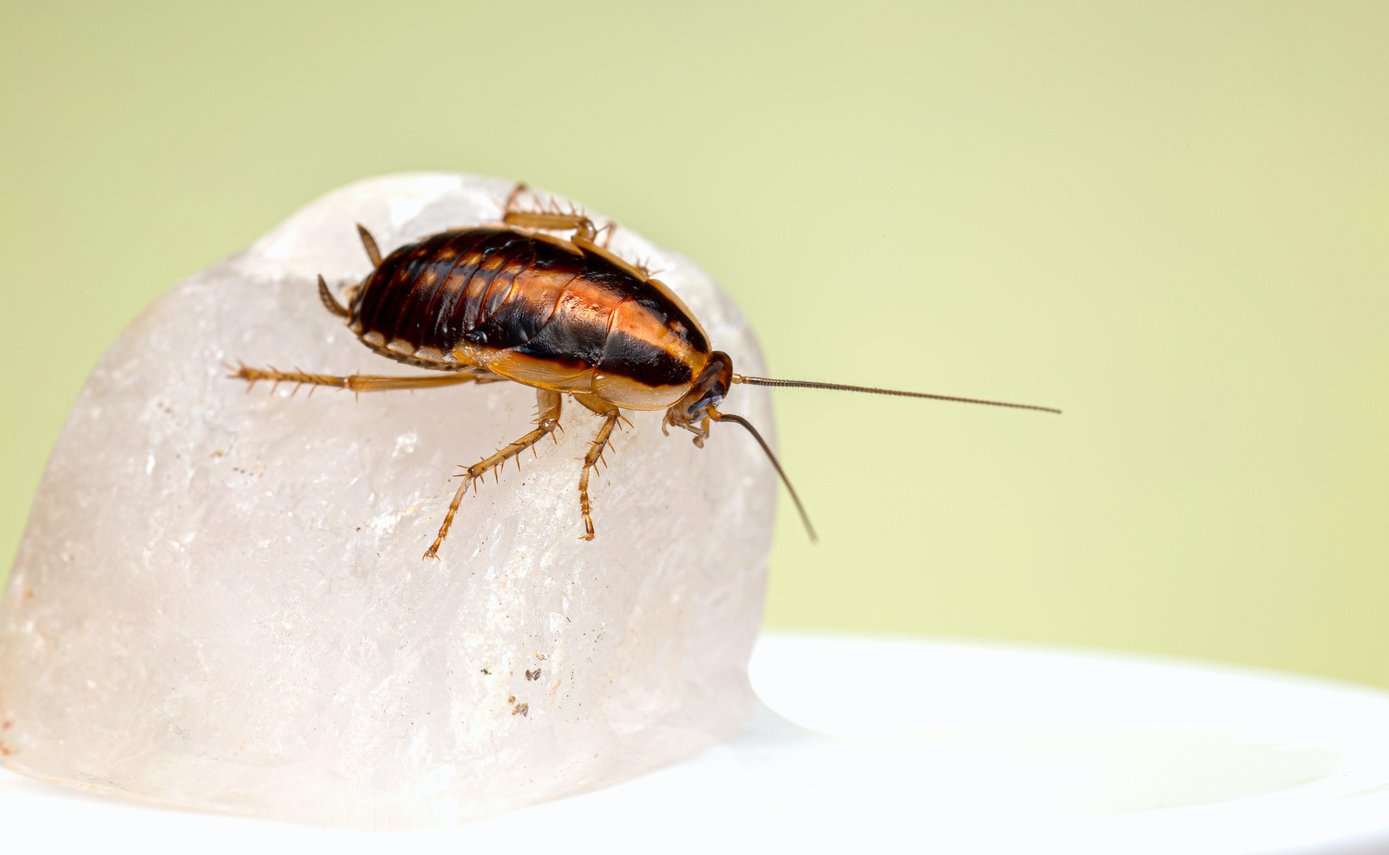cockroach: (304, 185, 746, 480)
